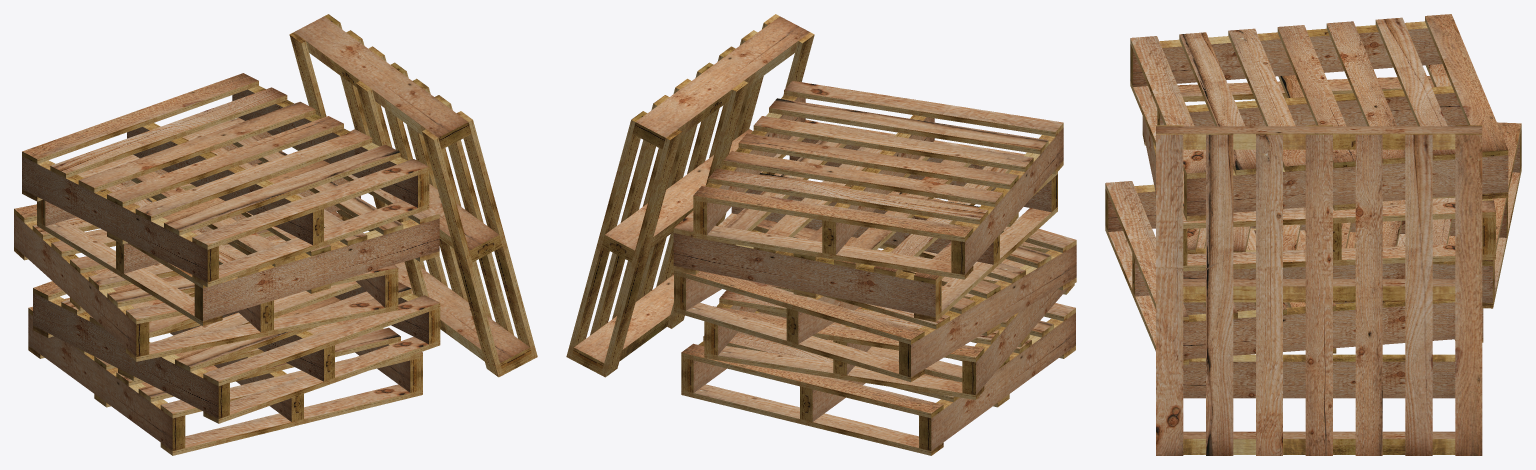
3 views of the same model, side by side, from view 1: azimuth 30°, elevation 25°; view 2: azimuth 150°, elevation 25°; view 3: azimuth 270°, elevation 25° (orthographic). The views are drawn at different scales.
Visible parts, largest first — view 1: Pallets; view 2: Pallets; view 3: Pallets.
Boxes of the visible parts, bbox=[...] form: Pallets: bbox=[14, 14, 537, 455]; Pallets: bbox=[566, 14, 1076, 455]; Pallets: bbox=[1105, 14, 1521, 455].
Bounding box in the file's own units: 72.66 × 47.61 × 60.25.
